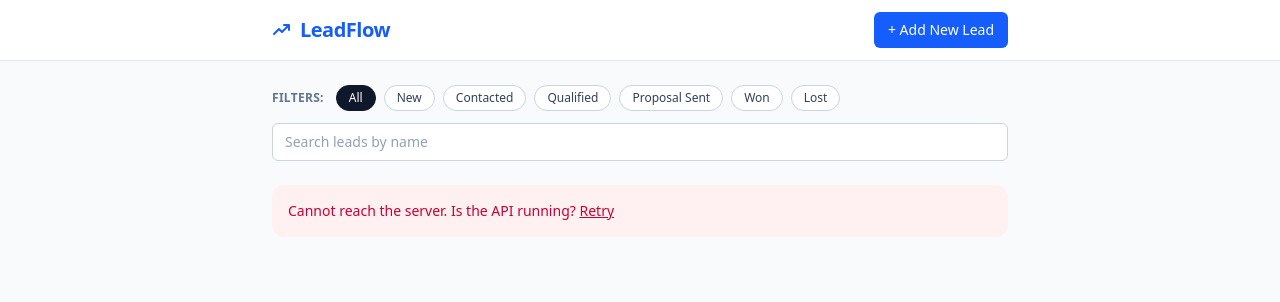
Test: lead list states › shows the error with a working Retry when the API is down
Check: the text "Cannot reach the server. Is the API running? Retry" is shown, box [272,185,1008,237]
Click the button "Retry" at (597, 211), box [580,201,614,221]
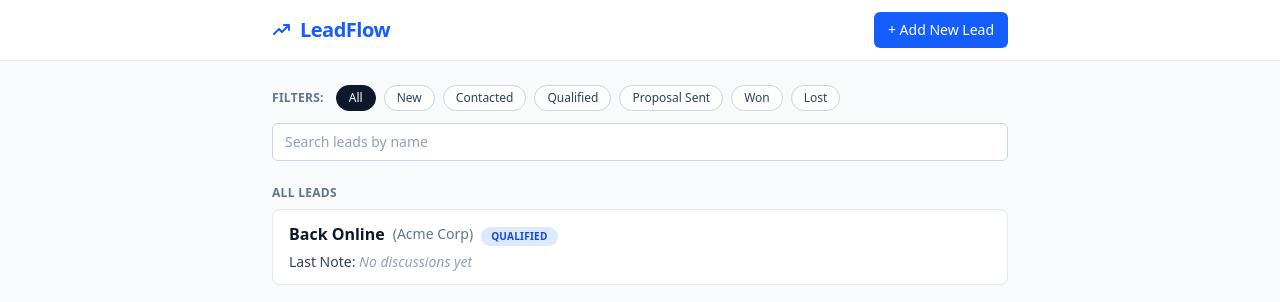
Check: the text "Back Online" is shown, box [289,222,385,246]
